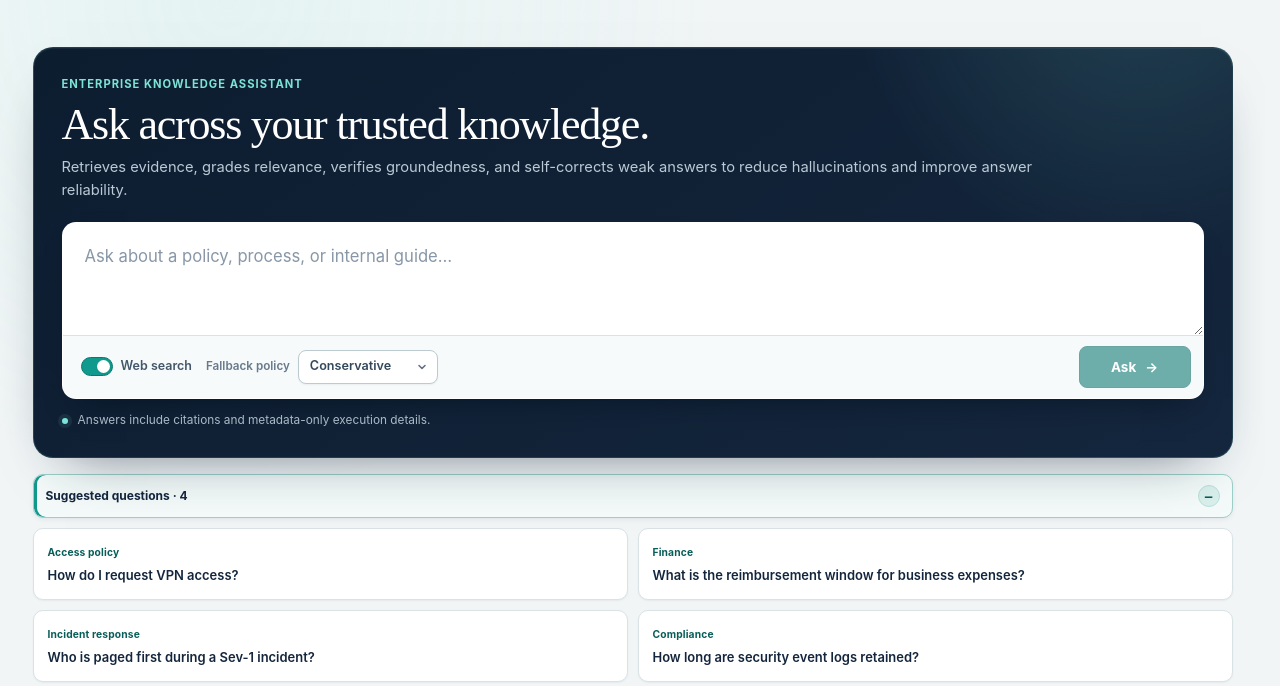
AskPage › clears the previous error once the question is edited
The image size is (1280, 686).
Type "What is the expense policy?" into the text box named "Question". click: (632, 279)
box: [62,223,1202,334]
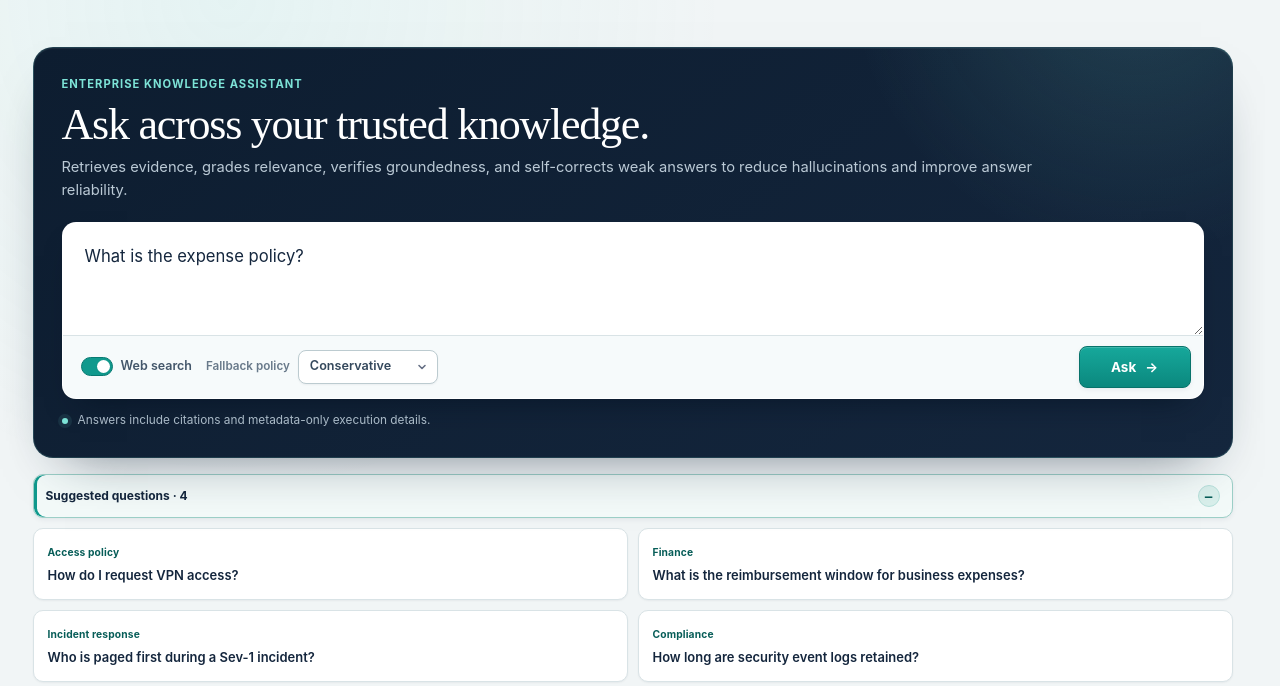
Click the button "Ask →". click: (1134, 367)
box: [1078,346,1190,388]
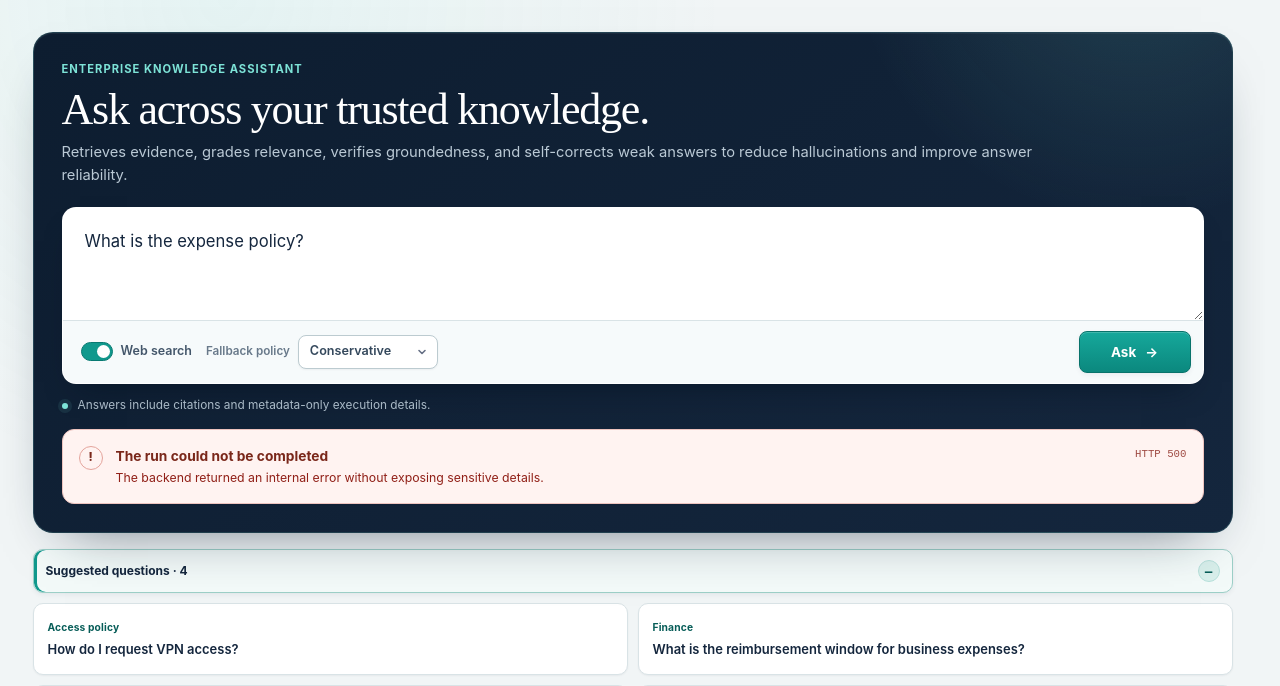
Check: the message is shown, box [62,429,1204,504]
Replace the text in the text box named "Question" with "a different question". click: (632, 264)
box: [62,208,1202,320]
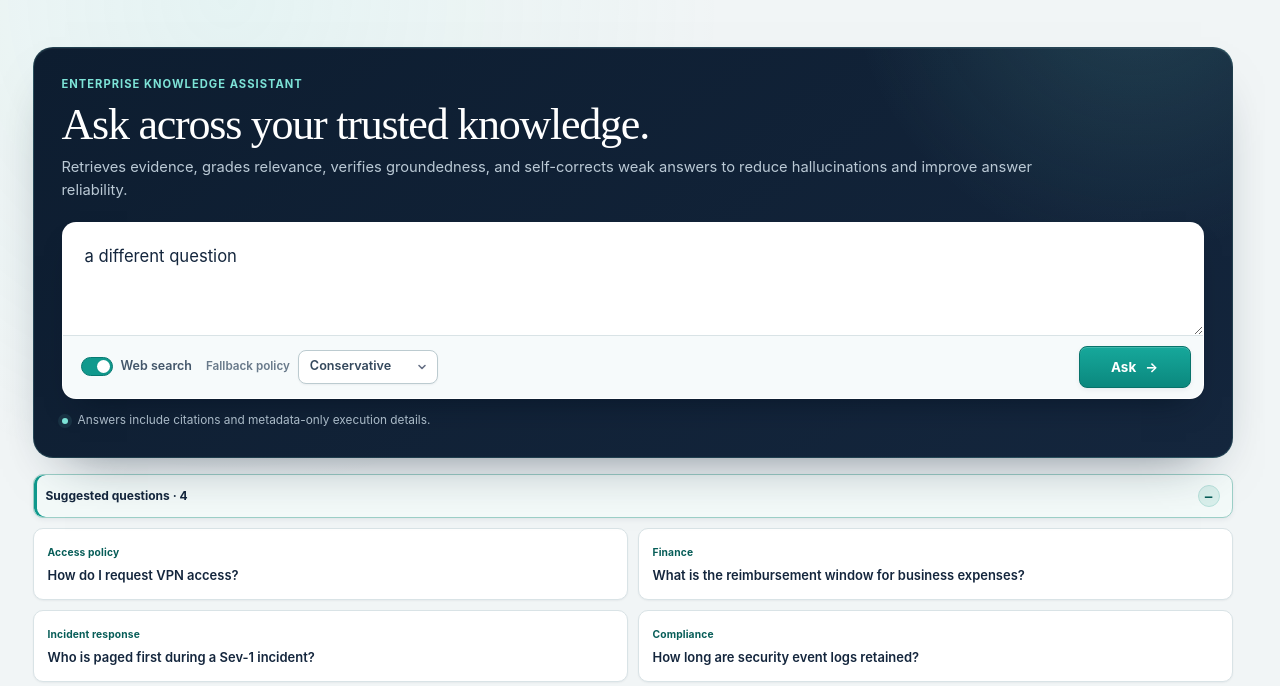
Check: the message "! The run could not be completed The backend returned an internal error without" is gone
